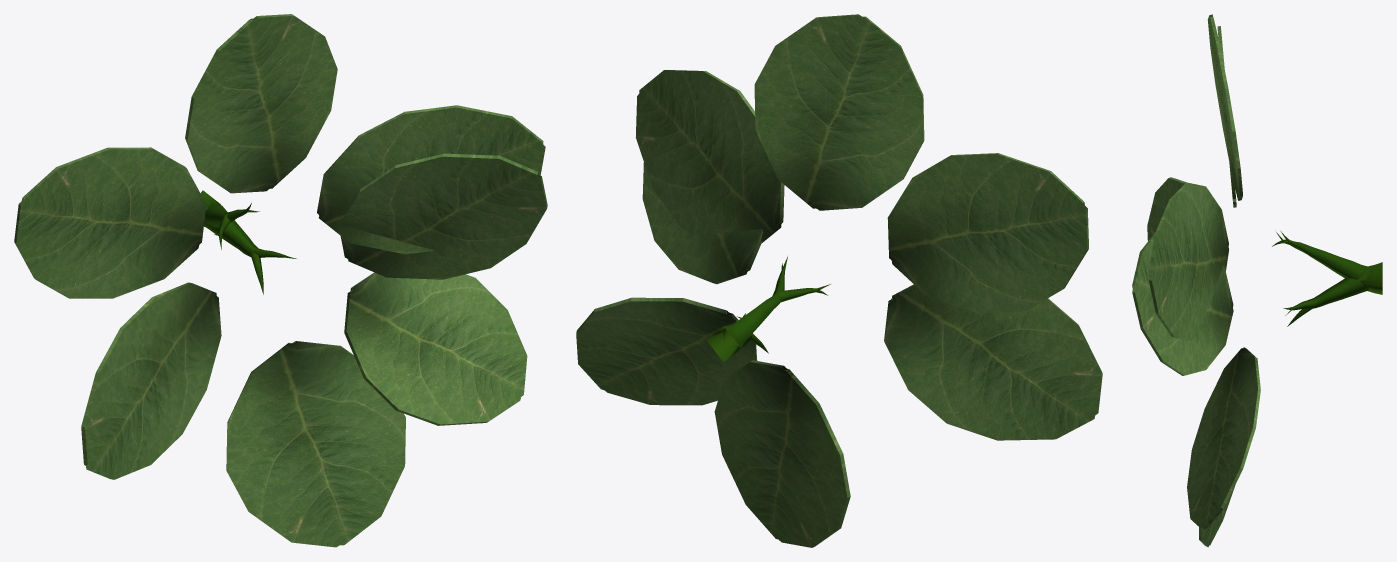
File: plant2.obj
3 views of the same model, side by side, from view 1: azimuth 30°, elevation 25°; view 2: azimuth 150°, elevation 25°; view 3: azimuth 270°, elevation 25° (orthographic). The views are drawn at different scales.
Parts seen in each view (by area): view 1: leaves.008, tree.008; view 2: leaves.008, tree.008; view 3: leaves.008, tree.008.
Part boxes in pixels (box(x1,y1,x2,y2)): leaves.008: box(14, 14, 547, 547); tree.008: box(200, 190, 296, 294); leaves.008: box(576, 14, 1102, 547); tree.008: box(706, 256, 830, 362); leaves.008: box(1132, 14, 1260, 547); tree.008: box(1272, 231, 1382, 326).
Bounding box in the file's own units: 0.1485 × 0.1527 × 0.0701.
Materials: 2 (2 with a texture image).
